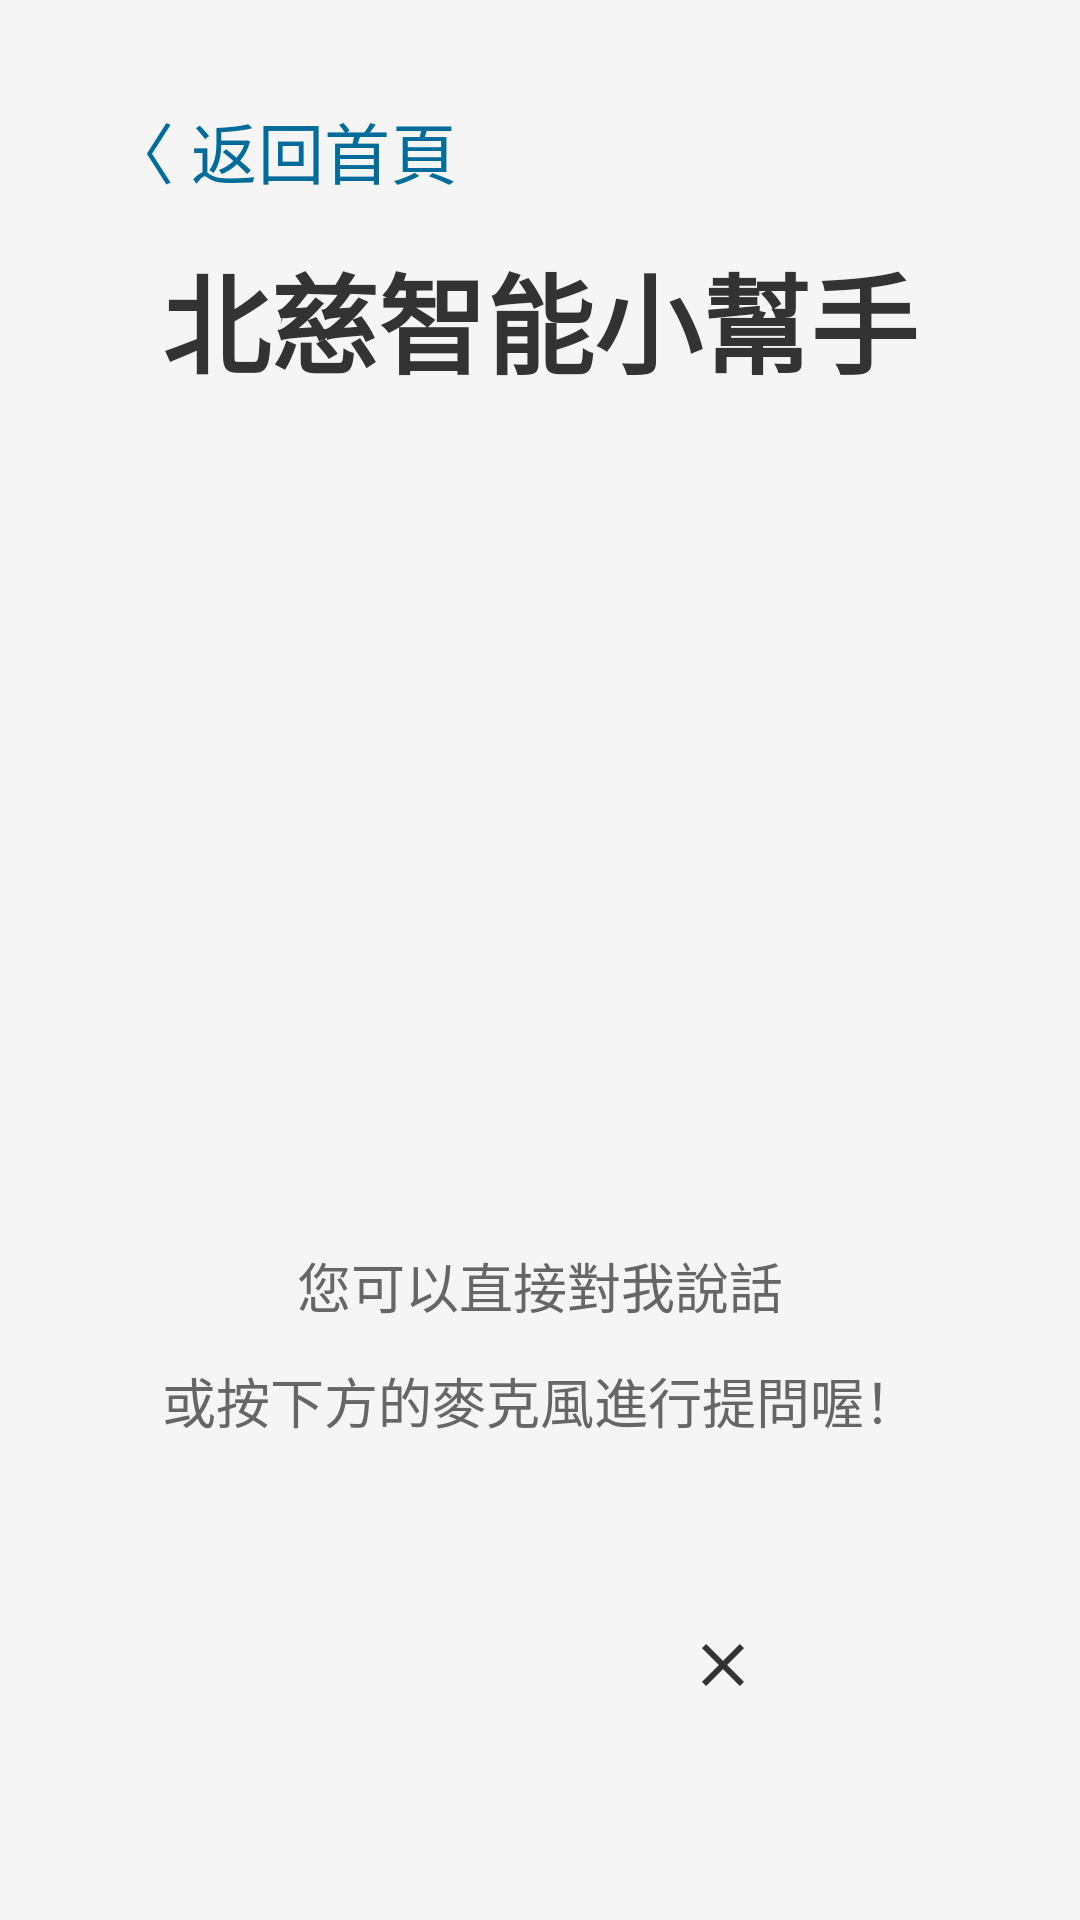

Named icons in this screenshot (1080px×1920px) and their centers, (x=x, y=y):
close: (x=723, y=1665)
